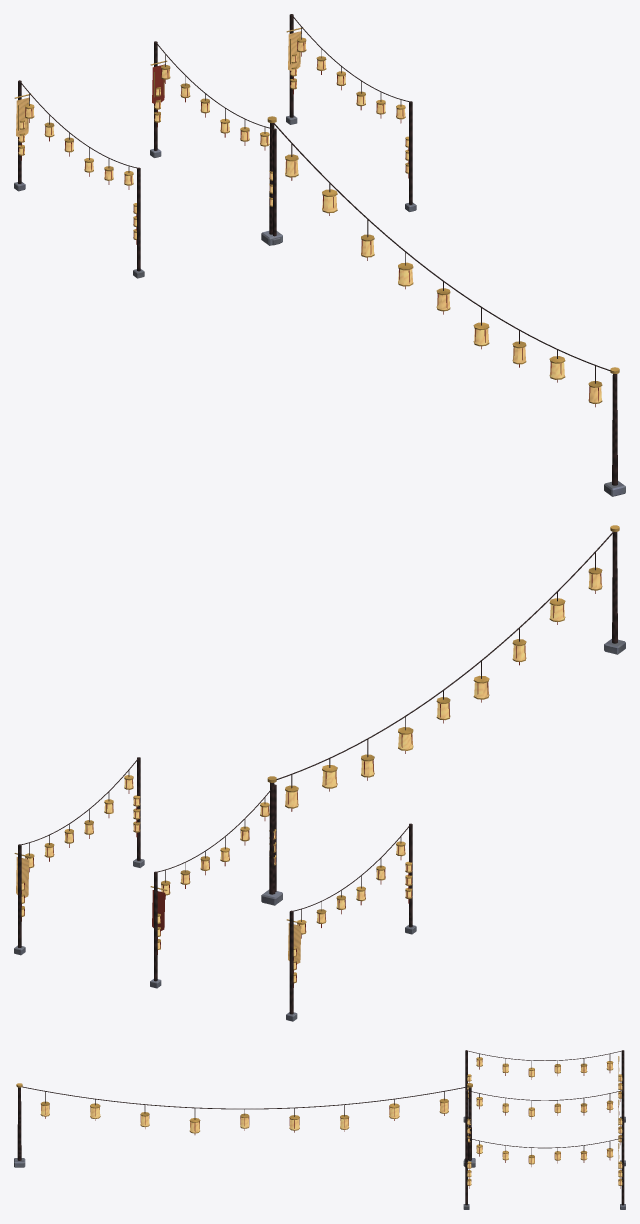
File: model-lantern-array-s2.glb
The picture shows the model from 3 angles, top to bottom: view 1: azimuth 30°, elevation 25°; view 2: azimuth 150°, elevation 25°; view 3: azimuth 270°, elevation 25°; orthographic projection. The views are drawn at different scales.
Visible parts, largest first — view 1: model-lantern-array-s2; view 2: model-lantern-array-s2; view 3: model-lantern-array-s2.
Boxes of the visible parts, <box> form: model-lantern-array-s2: <box>14,14,625,496</box>; model-lantern-array-s2: <box>14,525,625,1021</box>; model-lantern-array-s2: <box>14,1050,625,1209</box>.
Bounding box in the file's own units: 12.72 × 5.2 × 35.6.
Materials: 6 (6 with a texture image).
